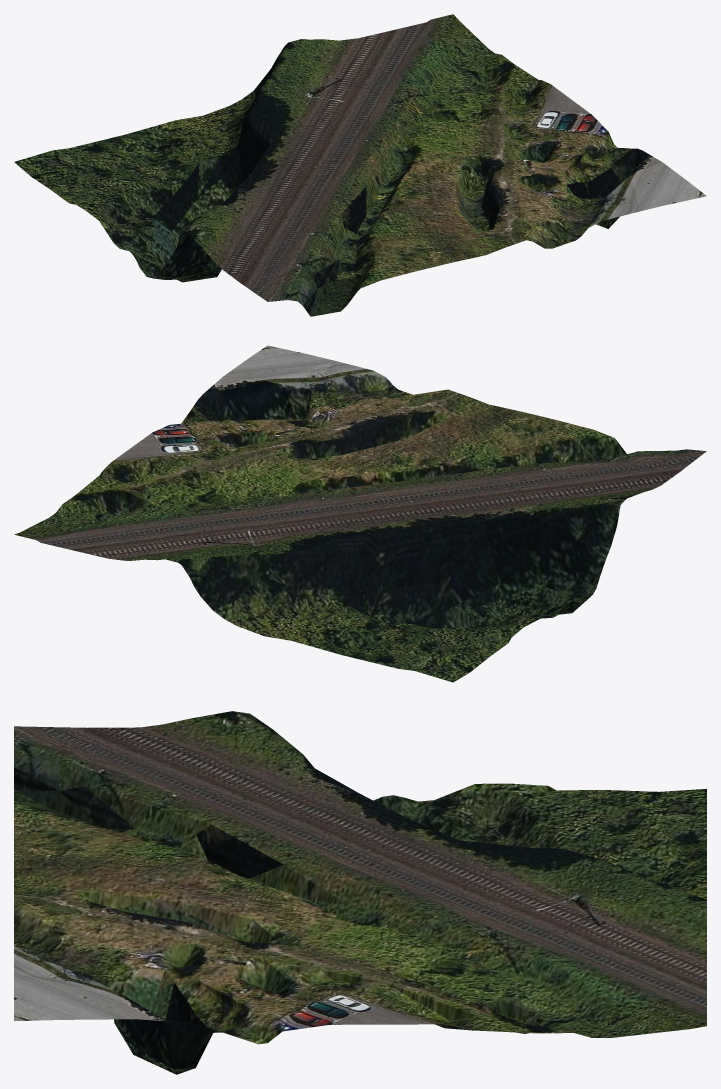
The model's file is map_15_8180_13785.dae.
The picture shows the model from 3 angles, top to bottom: view 1: azimuth 30°, elevation 25°; view 2: azimuth 150°, elevation 25°; view 3: azimuth 270°, elevation 25°; orthographic projection. The views are drawn at different scales.
Parts seen in each view (by area): view 1: Ter0; view 2: Ter0; view 3: Ter0.
Part boxes in pixels (box(x1,y1,x2,y2)): Ter0: box(14, 14, 706, 316); Ter0: box(14, 345, 706, 682); Ter0: box(14, 711, 706, 1074).
Bounding box in the file's own units: 63.88 × 63.88 × 15.41.
Materials: 3 (3 with a texture image).
